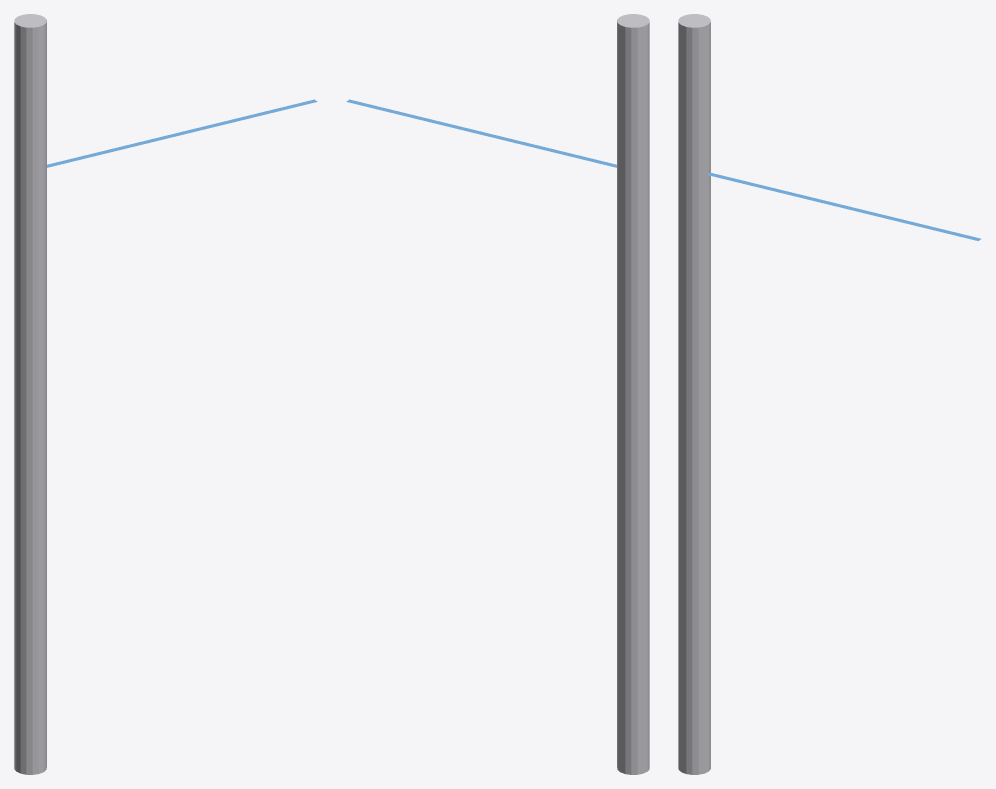
The model's file is idea_flag.glb.
3 renders of one model, left to right at view 1: azimuth 30°, elevation 25°; view 2: azimuth 150°, elevation 25°; view 3: azimuth 330°, elevation 25°, orthographic.
Visible parts, largest first — view 1: FlagPole, FlagBanner; view 2: FlagPole, FlagBanner; view 3: FlagPole, FlagBanner.
Part boxes in pixels (<box>): FlagPole: <box>14,14,46,774</box>; FlagBanner: <box>47,99,317,167</box>; FlagPole: <box>617,14,649,774</box>; FlagBanner: <box>346,99,616,167</box>; FlagPole: <box>678,14,710,774</box>; FlagBanner: <box>707,172,981,240</box>.
Size of the model in its own units: 1.05 by 2.5 by 0.1.
